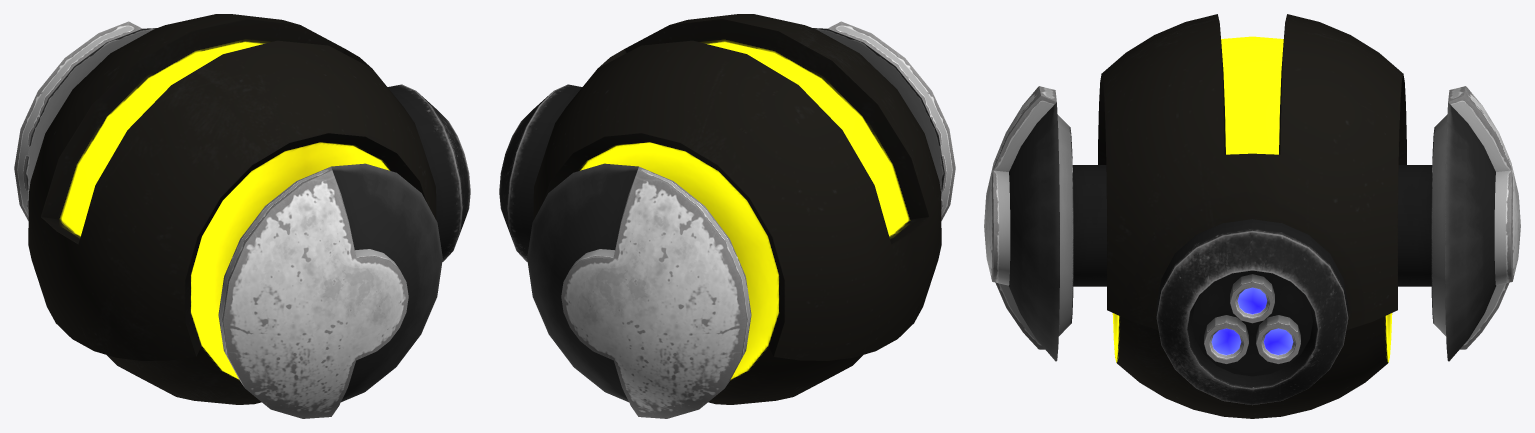
File: drone.glb
3 views of the same model, side by side, from view 1: azimuth 30°, elevation 25°; view 2: azimuth 150°, elevation 25°; view 3: azimuth 270°, elevation 25° (orthographic). The views are drawn at different scales.
Visible parts, largest first — view 1: Object_2; view 2: Object_2; view 3: Object_2.
Part boxes in pixels (x1=…): Object_2: x1=14, y1=14, x2=470, y2=418; Object_2: x1=499, y1=14, x2=955, y2=418; Object_2: x1=984, y1=14, x2=1520, y2=418.
Bounding box in the file's own units: 923 × 804 × 1077.
1 material, 1 textured.
